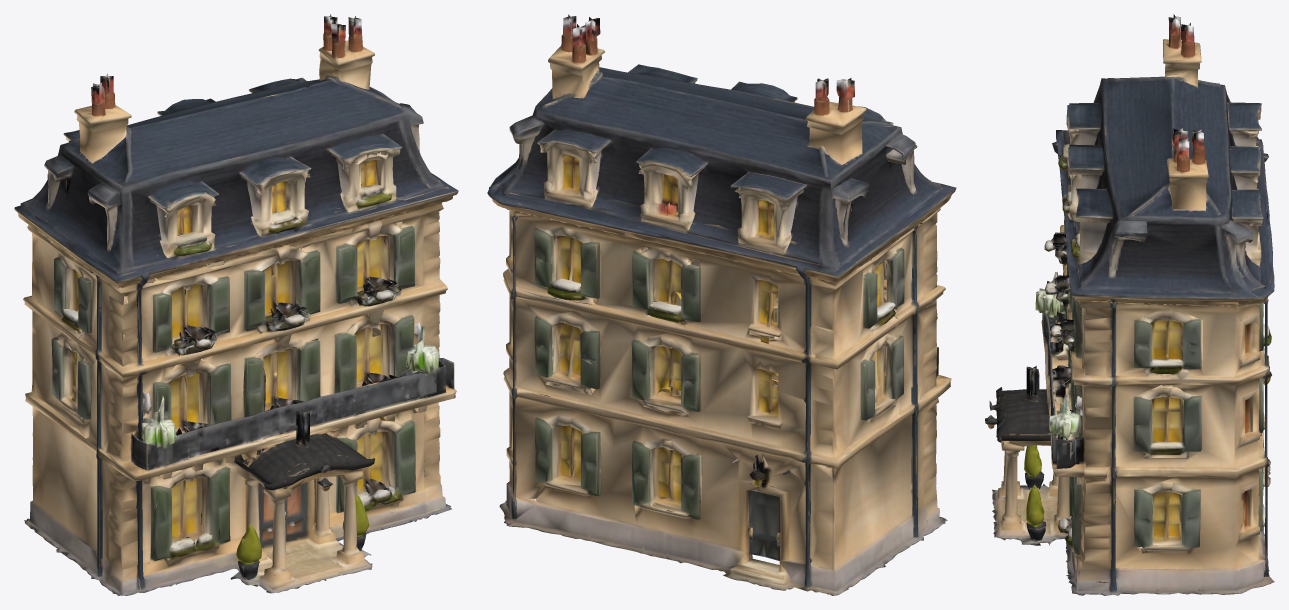
3 renders of one model, left to right at view 1: azimuth 30°, elevation 25°; view 2: azimuth 150°, elevation 25°; view 3: azimuth 270°, elevation 25°, orthographic. The views are drawn at different scales.
Visible parts, largest first — view 1: classic__hotel_3__neural_lod; view 2: classic__hotel_3__neural_lod; view 3: classic__hotel_3__neural_lod.
Part boxes in pixels (x1,y1,x2,y2): classic__hotel_3__neural_lod: (14, 14, 458, 595); classic__hotel_3__neural_lod: (487, 14, 956, 595); classic__hotel_3__neural_lod: (985, 14, 1274, 595).
Bounding box in the file's own units: 0.6983 × 0.8795 × 0.5255.
Materials: 1 (1 with a texture image).
